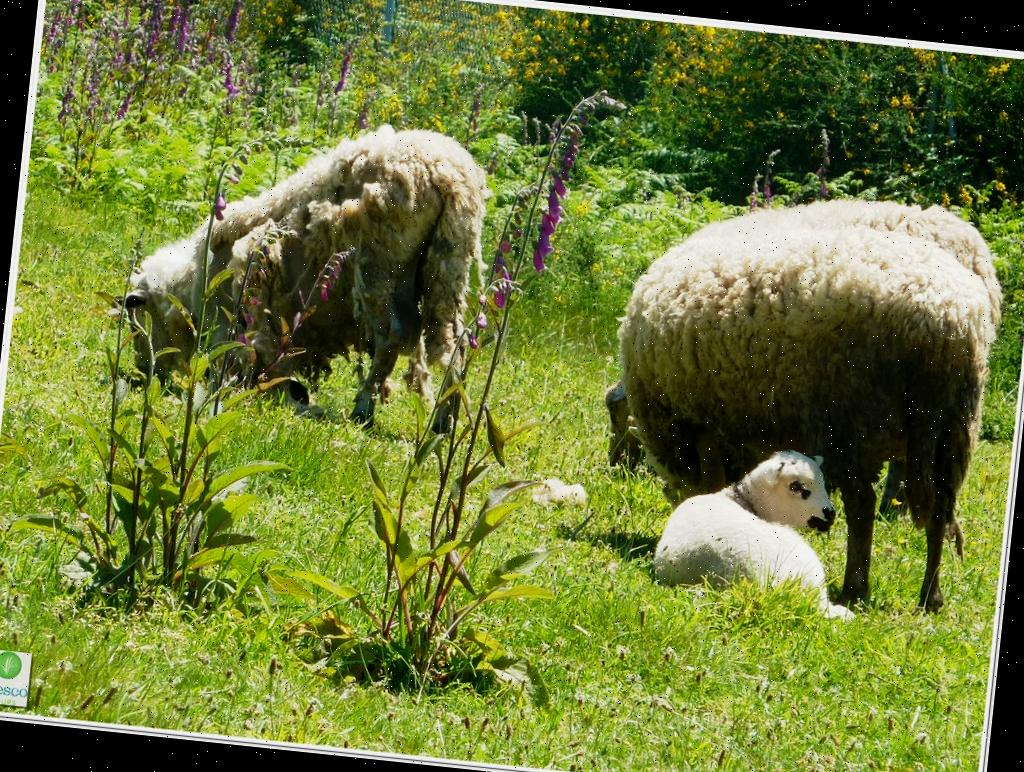Sheep: (582, 174, 998, 624), (106, 100, 502, 452), (626, 436, 862, 612)
